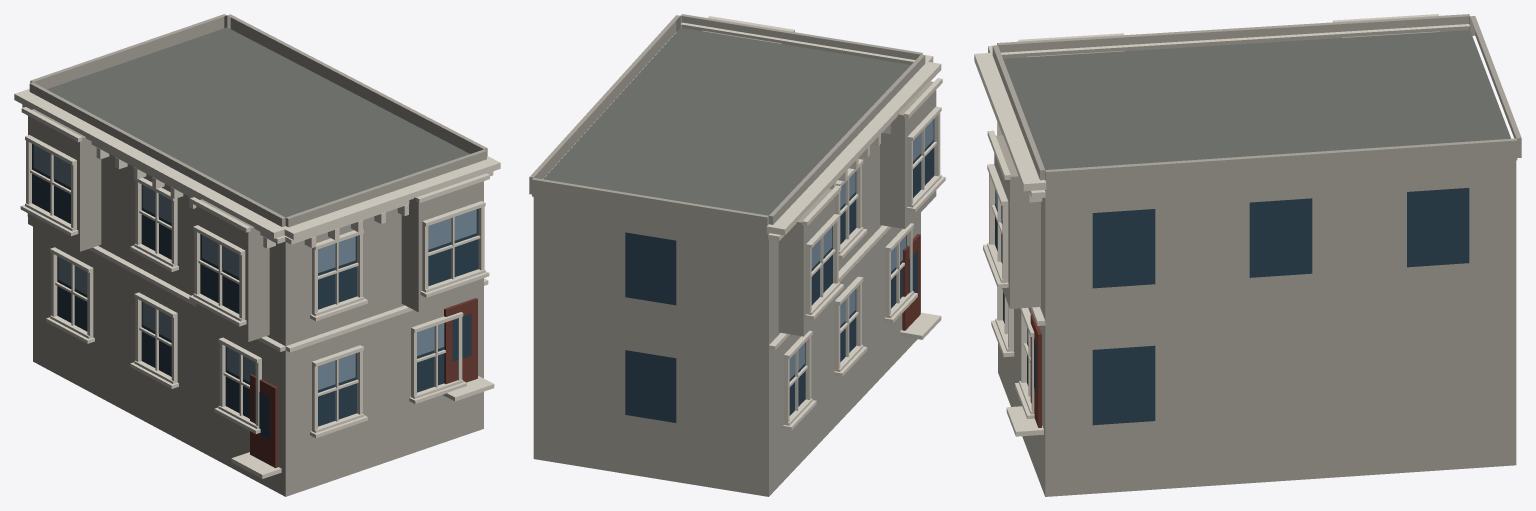
3 renders of one model, left to right at view 1: azimuth 30°, elevation 25°; view 2: azimuth 150°, elevation 25°; view 3: azimuth 270°, elevation 25°, orthographic. The views are drawn at different scales.
Visible parts, largest first — view 1: Footprint 0 / surface 2, Footprint 0 / surface 1, Cornices and window frames, Facade bay volumes, Inset glazing, Sky reflection panels, Storefronts and doors; view 2: Footprint 0 / surface 2, Footprint 0 / surface 1, Facade bay volumes, Cornices and window frames, Inset glazing, Sky reflection panels, Storefronts and doors; view 3: Footprint 0 / surface 2, Footprint 0 / surface 1, Facade bay volumes, Inset glazing, Cornices and window frames, Storefronts and doors.
Part boxes in pixels (x1,y1,x2,y2): Footprint 0 / surface 2: (33,154,483,496); Footprint 0 / surface 1: (47,27,469,217); Cornices and window frames: (14,89,500,478); Facade bay volumes: (28,14,487,341); Inset glazing: (32,144,478,439); Sky reflection panels: (33,145,476,389); Storefronts and doors: (250,298,477,467); Footprint 0 / surface 2: (533,144,920,496); Footprint 0 / surface 1: (543,27,910,215); Facade bay volumes: (529,14,936,336); Cornices and window frames: (681,16,945,430); Inset glazing: (625,119,934,422); Sky reflection panels: (789,119,933,379); Storefronts and doors: (902,234,920,330); Footprint 0 / surface 2: (998,160,1516,496); Footprint 0 / surface 1: (1003,30,1510,169); Facade bay volumes: (992,14,1521,308); Inset glazing: (995,188,1469,425); Cornices and window frames: (974,14,1469,436); Storefronts and doors: (1030,314,1041,427).
Bounding box in the file's own units: 9.43 × 8.24 × 12.51.
